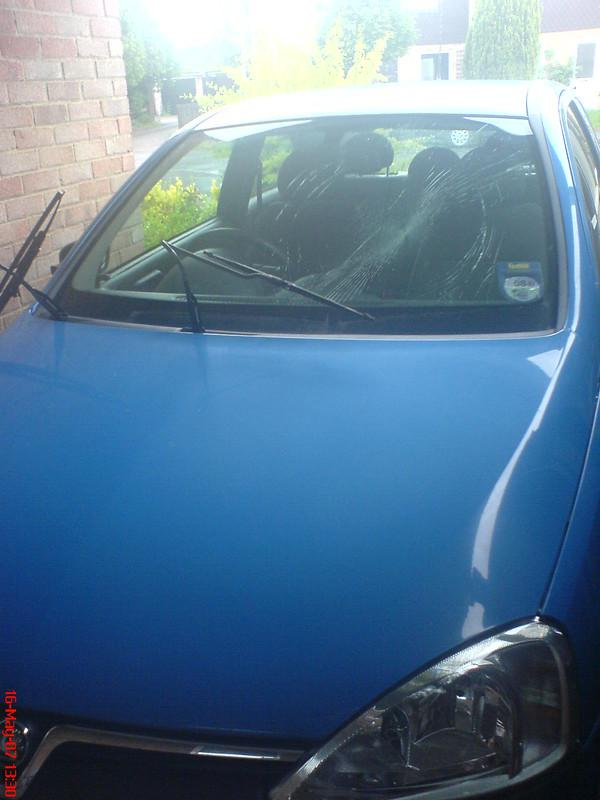Front-Windscreen-Damage: (113, 140, 528, 310)
